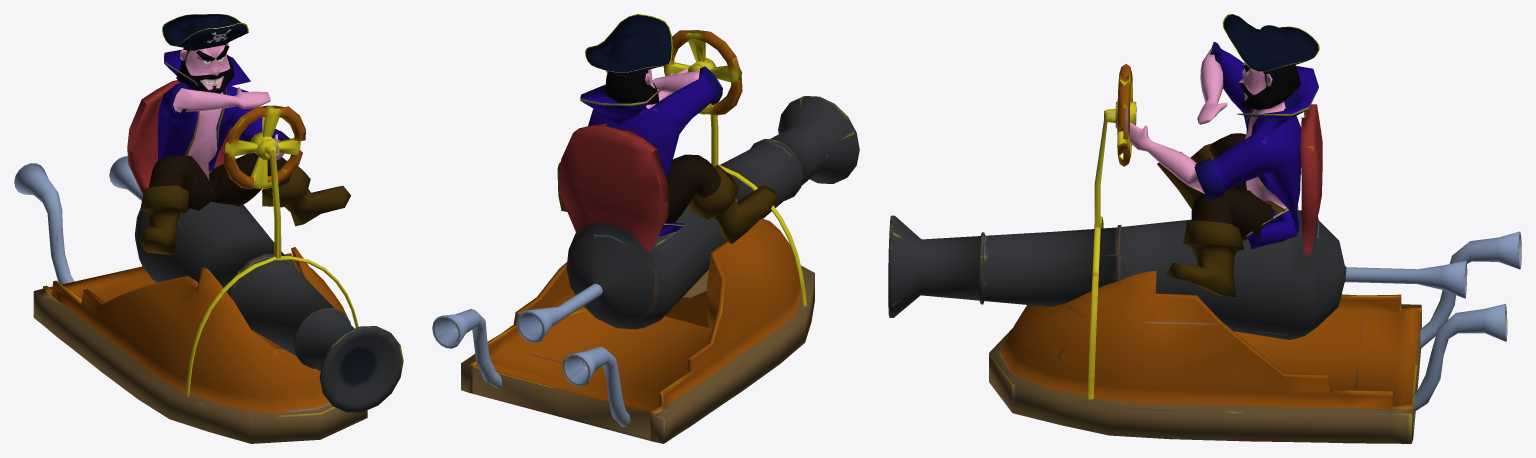
Rendered from VacilePirata_000524.obj.
The picture shows the model from 3 angles, left to right: view 1: azimuth 30°, elevation 25°; view 2: azimuth 150°, elevation 25°; view 3: azimuth 270°, elevation 25°; orthographic projection. The views are drawn at different scales.
Parts seen in each view (by area): view 1: carro_pirata_carro_pirata.001, Pirata_PirataH; view 2: carro_pirata_carro_pirata.001, Pirata_PirataH; view 3: carro_pirata_carro_pirata.001, Pirata_PirataH.
Part boxes in pixels (x1,y1,x2,y2): carro_pirata_carro_pirata.001: (14, 80, 403, 443); Pirata_PirataH: (139, 14, 350, 255); carro_pirata_carro_pirata.001: (432, 30, 859, 443); Pirata_PirataH: (557, 14, 778, 244); carro_pirata_carro_pirata.001: (888, 64, 1521, 443); Pirata_PirataH: (1115, 14, 1319, 296).
Size of the model in its own units: 5.17 by 7.71 by 12.1.
